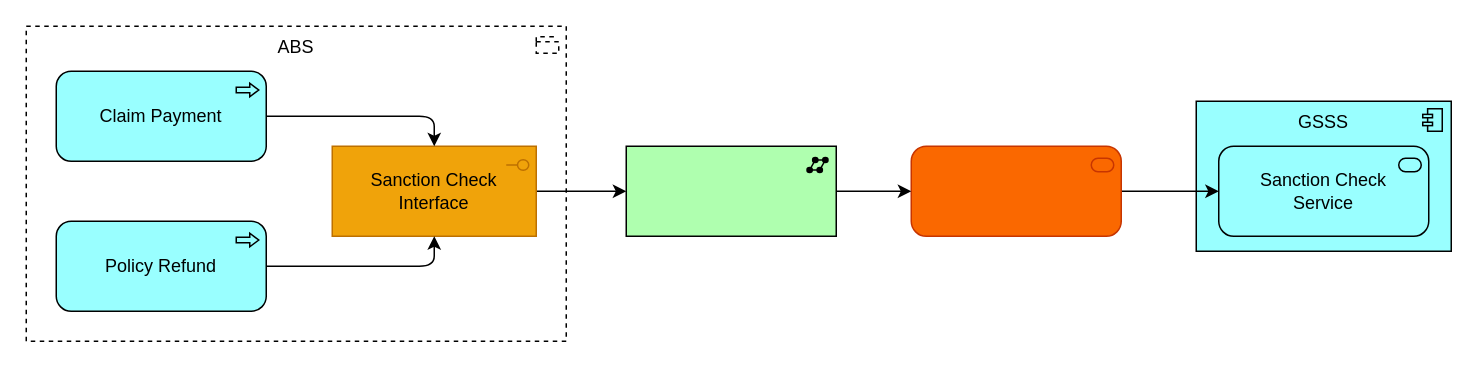
This 1478x368 diagram has some shape labels left out. The centre of each missing label's shape, as x and y in pixels:
"Apigee" belongs at (730,190).
"GSSS SOAP Adapter" belongs at (1015,190).
